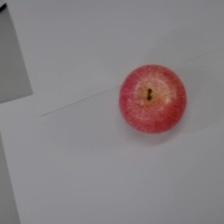red: (115, 59, 191, 138)
